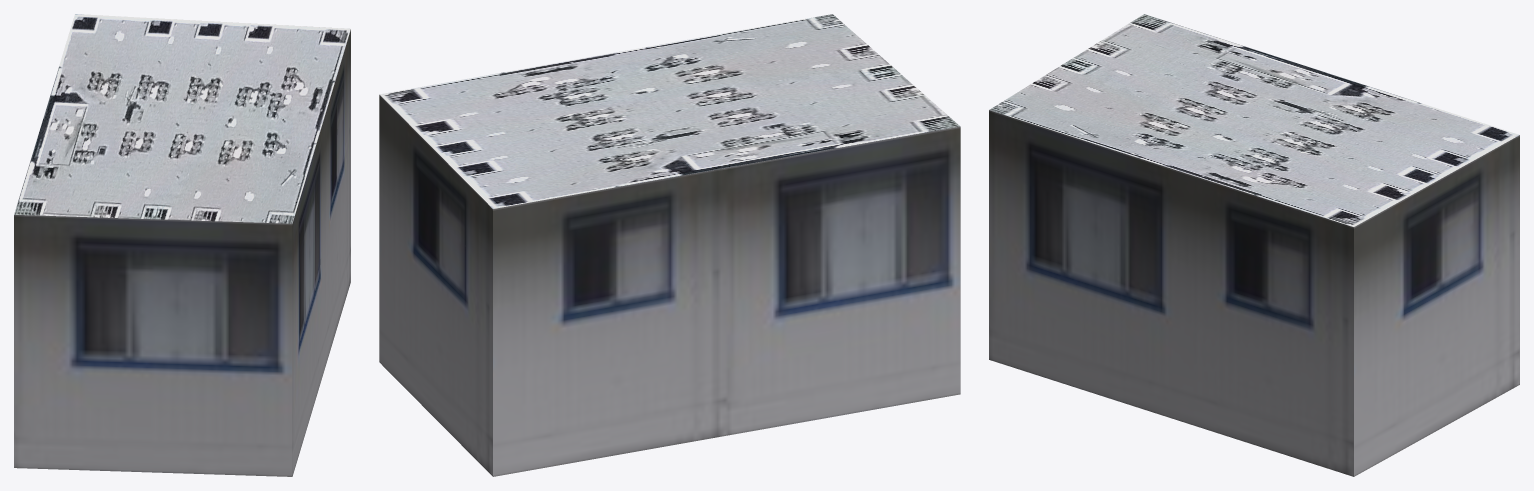
The model's file is ResTex__3012.fbx.
3 renders of one model, left to right at view 1: azimuth 30°, elevation 25°; view 2: azimuth 150°, elevation 25°; view 3: azimuth 270°, elevation 25°, orthographic. The views are drawn at different scales.
Visible parts, largest first — view 1: CityEngineMaterial_9_m, CityEngineMaterial_4_m; view 2: CityEngineMaterial_9_m, CityEngineMaterial_4_m; view 3: CityEngineMaterial_9_m, CityEngineMaterial_4_m.
Boxes of the visible parts, x1=… form: CityEngineMaterial_9_m: x1=14, y1=29, x2=350, y2=476; CityEngineMaterial_4_m: x1=14, y1=14, x2=350, y2=223; CityEngineMaterial_9_m: x1=379, y1=95, x2=960, y2=476; CityEngineMaterial_4_m: x1=379, y1=14, x2=960, y2=208; CityEngineMaterial_9_m: x1=989, y1=110, x2=1519, y2=476; CityEngineMaterial_4_m: x1=989, y1=14, x2=1519, y2=226.
Size of the model in its own units: 5.49 by 3 by 5.78.
2 materials, 2 textured.
